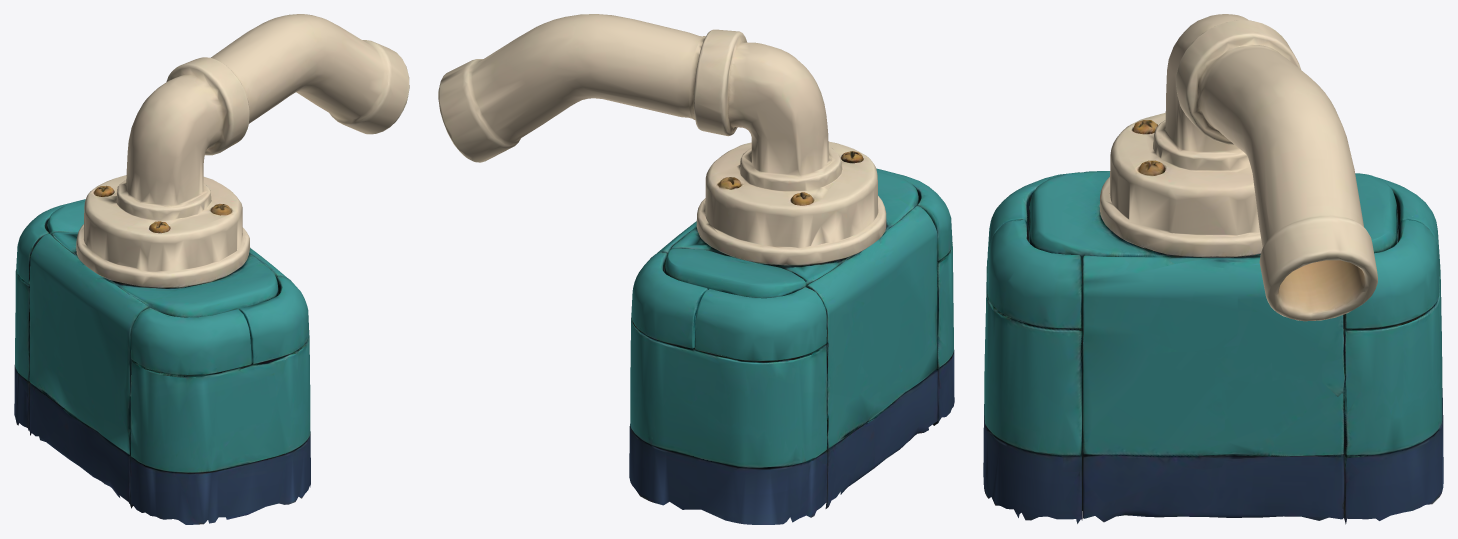
The model's file is pump.glb.
3 views of the same model, side by side, from view 1: azimuth 30°, elevation 25°; view 2: azimuth 150°, elevation 25°; view 3: azimuth 270°, elevation 25° (orthographic). The views are drawn at different scales.
Visible parts, largest first — view 1: tripo_node_04bf167f-309f-48a6-aa2e-4253404d5c99; view 2: tripo_node_04bf167f-309f-48a6-aa2e-4253404d5c99; view 3: tripo_node_04bf167f-309f-48a6-aa2e-4253404d5c99.
Boxes of the visible parts, <box> form: tripo_node_04bf167f-309f-48a6-aa2e-4253404d5c99: <box>14,14,409,524</box>; tripo_node_04bf167f-309f-48a6-aa2e-4253404d5c99: <box>438,14,954,524</box>; tripo_node_04bf167f-309f-48a6-aa2e-4253404d5c99: <box>983,14,1443,524</box>.
Bounding box in the file's own units: 0.8788 × 0.8764 × 0.7471.
1 material, 1 textured.
